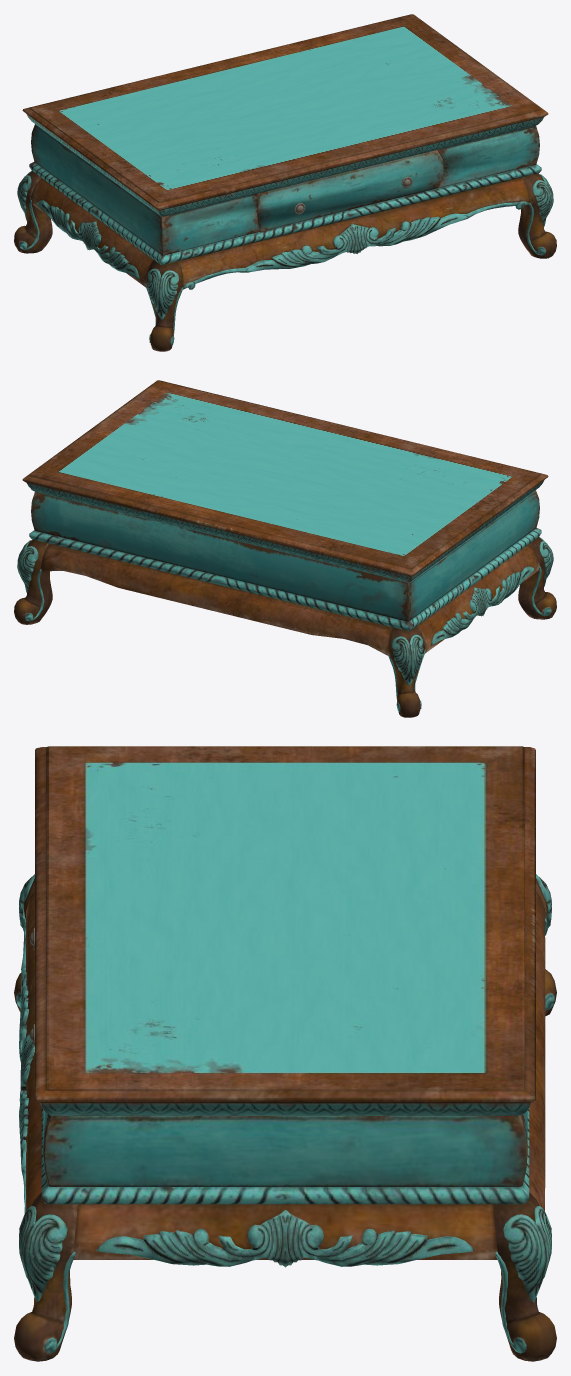
File: CoffeeTable_01.glb
3 views of the same model, one above another, from view 1: azimuth 30°, elevation 25°; view 2: azimuth 150°, elevation 25°; view 3: azimuth 270°, elevation 25° (orthographic). The views are drawn at different scales.
Parts seen in each view (by area): view 1: CoffeeTable_01; view 2: CoffeeTable_01; view 3: CoffeeTable_01.
Boxes of the visible parts, x1,y1,x2,y2 form: CoffeeTable_01: (14,14,556,351); CoffeeTable_01: (14,380,556,717); CoffeeTable_01: (14,746,556,1361).
Size of the model in its own units: 1.54 by 0.5232 by 0.9736.
Materials: 1 (1 with a texture image).
